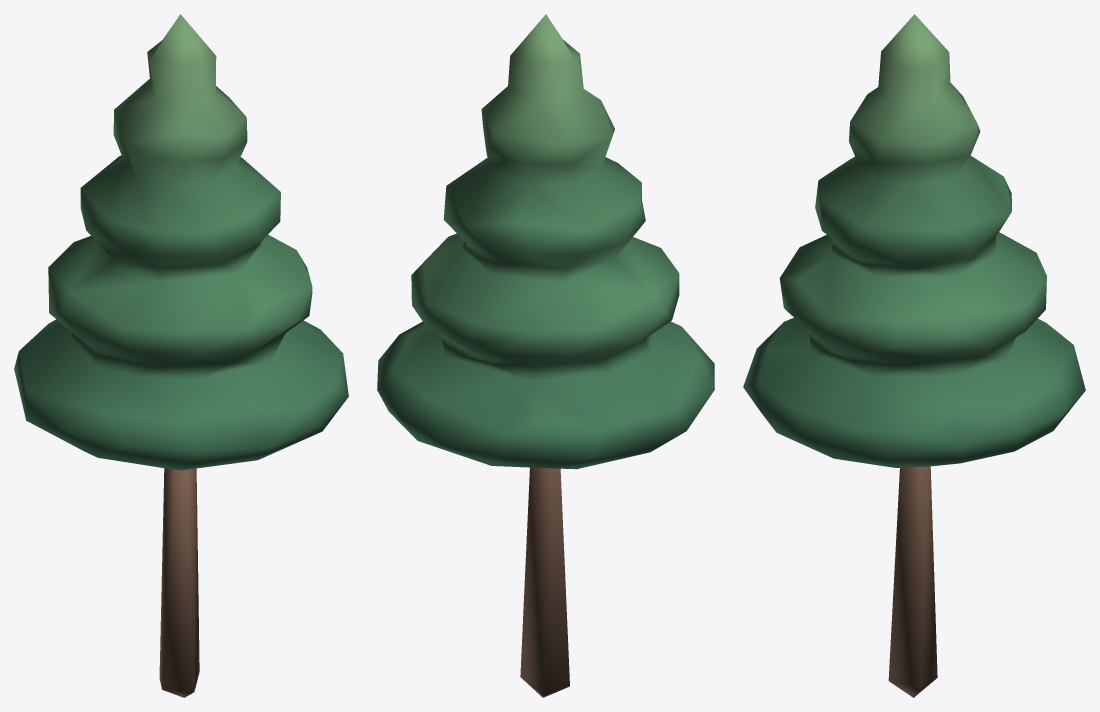
The model's file is env_sky_mtree_a.glb.
3 views of the same model, side by side, from view 1: azimuth 30°, elevation 25°; view 2: azimuth 150°, elevation 25°; view 3: azimuth 270°, elevation 25° (orthographic).
Parts seen in each view (by area): view 1: SM_sky_sky_mtn_vc_x0_z0; view 2: SM_sky_sky_mtn_vc_x0_z0; view 3: SM_sky_sky_mtn_vc_x0_z0.
Part boxes in pixels (x1,y1,x2,y2): SM_sky_sky_mtn_vc_x0_z0: [14, 14, 348, 697]; SM_sky_sky_mtn_vc_x0_z0: [377, 14, 714, 697]; SM_sky_sky_mtn_vc_x0_z0: [743, 14, 1085, 697].
Size of the model in its own units: 2.09 by 4.69 by 2.13.
